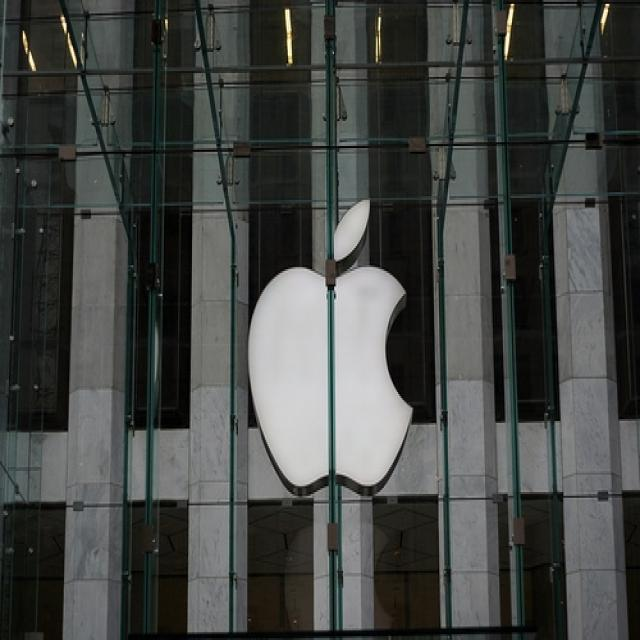apple: (242, 184, 421, 510)
